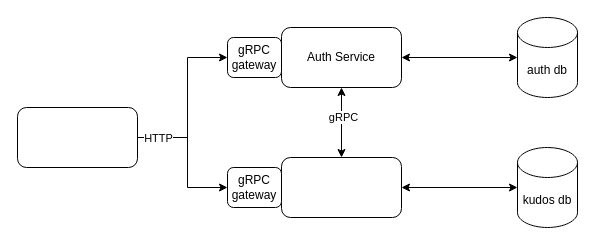
This 595x245 diagram has some shape labels left out. The shapes that lost their labels are listed below. From the top down, each one's centre as x and y in pixels, then its label:
the point at 77,137: Client
the point at 341,187: Kudos Service
